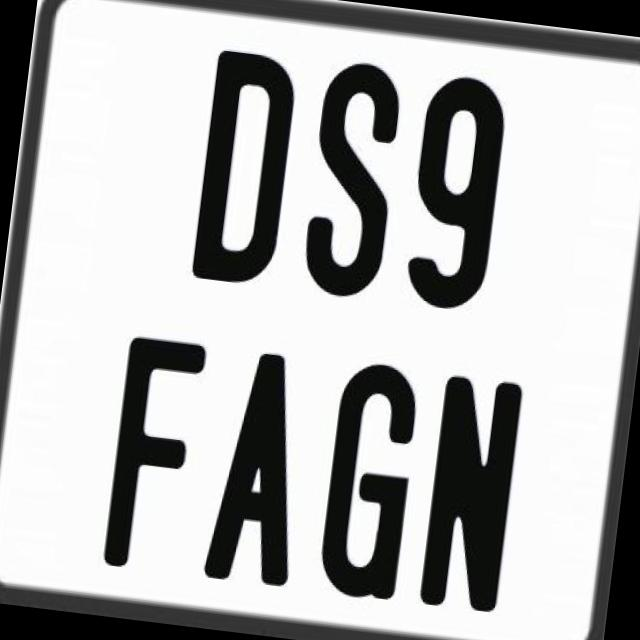9: (398, 71, 512, 318)
A: (202, 350, 318, 588)
D: (190, 45, 306, 289)
F: (98, 335, 211, 582)
G: (314, 360, 428, 612)
N: (415, 374, 527, 619)
S: (298, 58, 404, 300)
